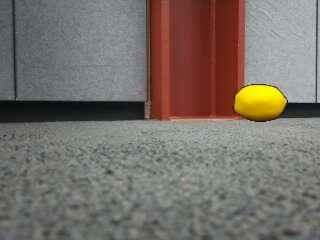lemon: (235, 85, 287, 121)
